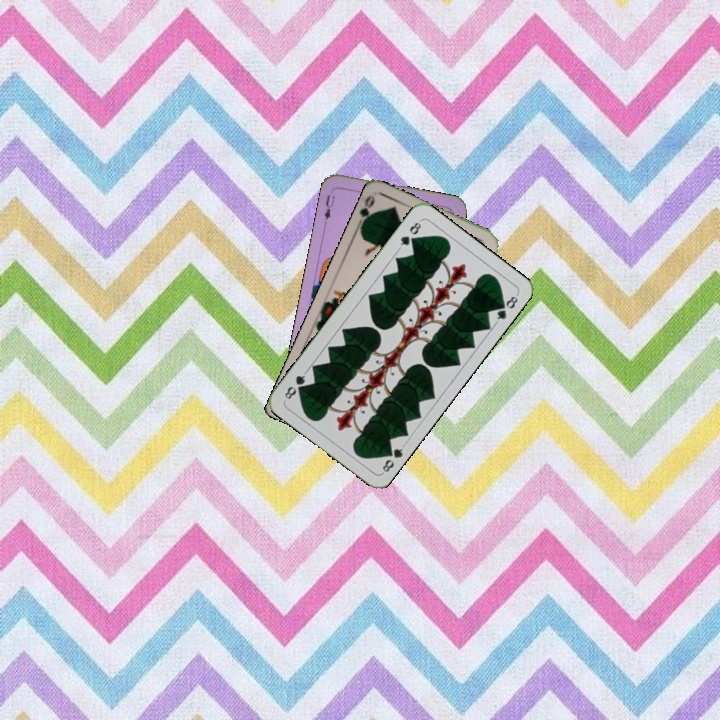EU: (320, 191, 338, 222)
G8: (378, 441, 408, 476), (395, 217, 424, 252)
GO: (352, 192, 378, 232)
